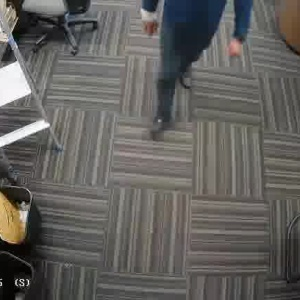person: (141, 0, 239, 128)
